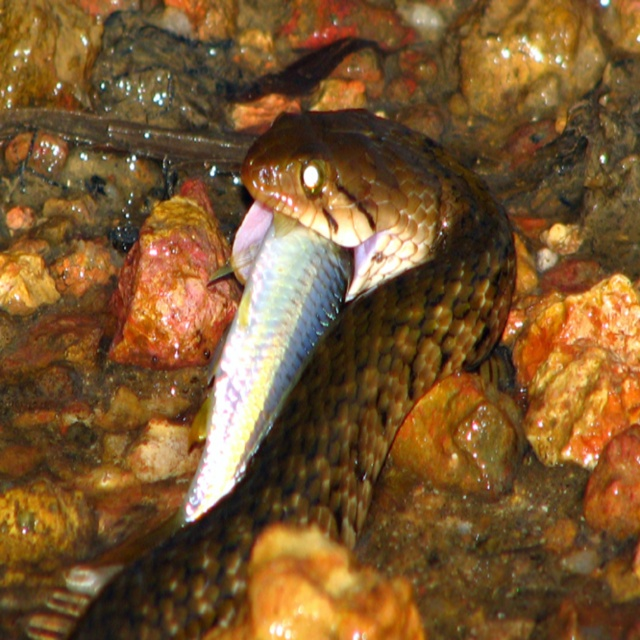Snake: (67, 114, 514, 639)
